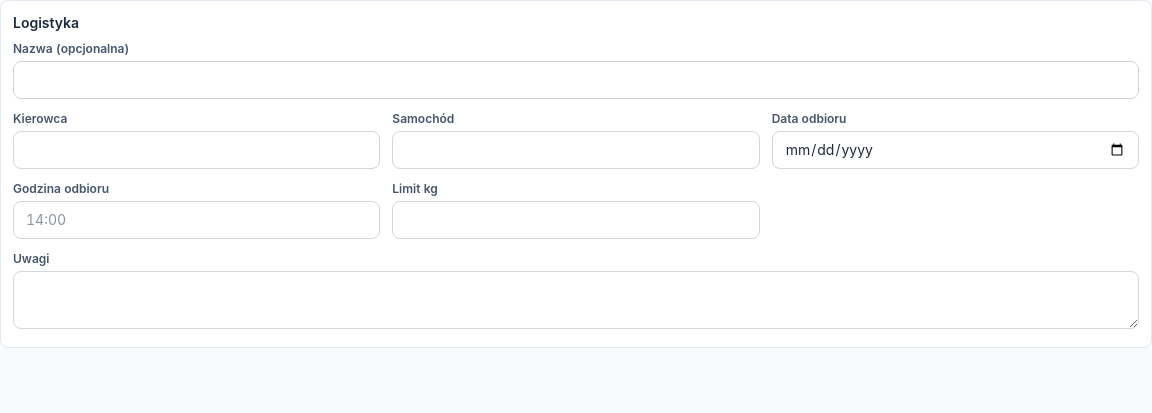
Scenario: LogisticsPanel — unsaved-changes flag › is clean on mount and dirty after an edit, with the save button shown
Expected: the button "Zapisz logistykę" is not shown
Type "Jan" into the field with id "trn-driver". click: (197,150)
box: [13,131,380,169]
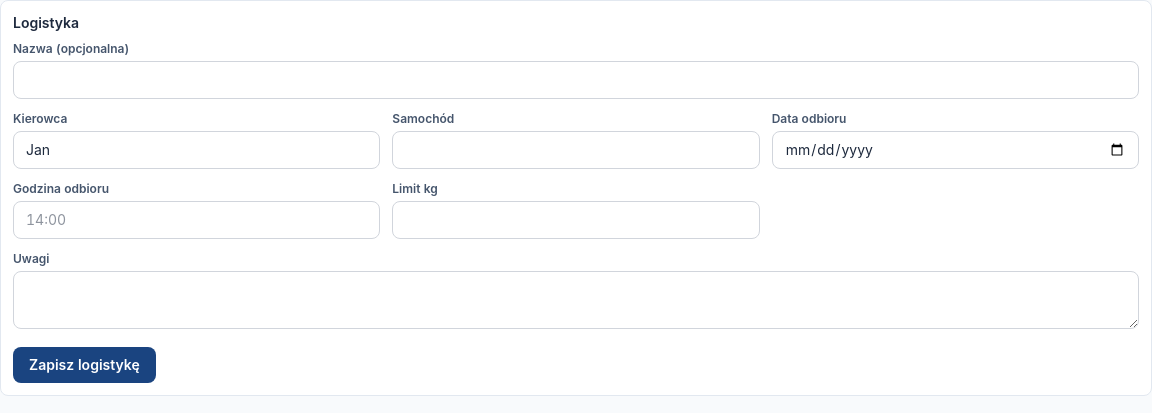
Result: the button "Zapisz logistykę" is shown at [13,347,156,383]
